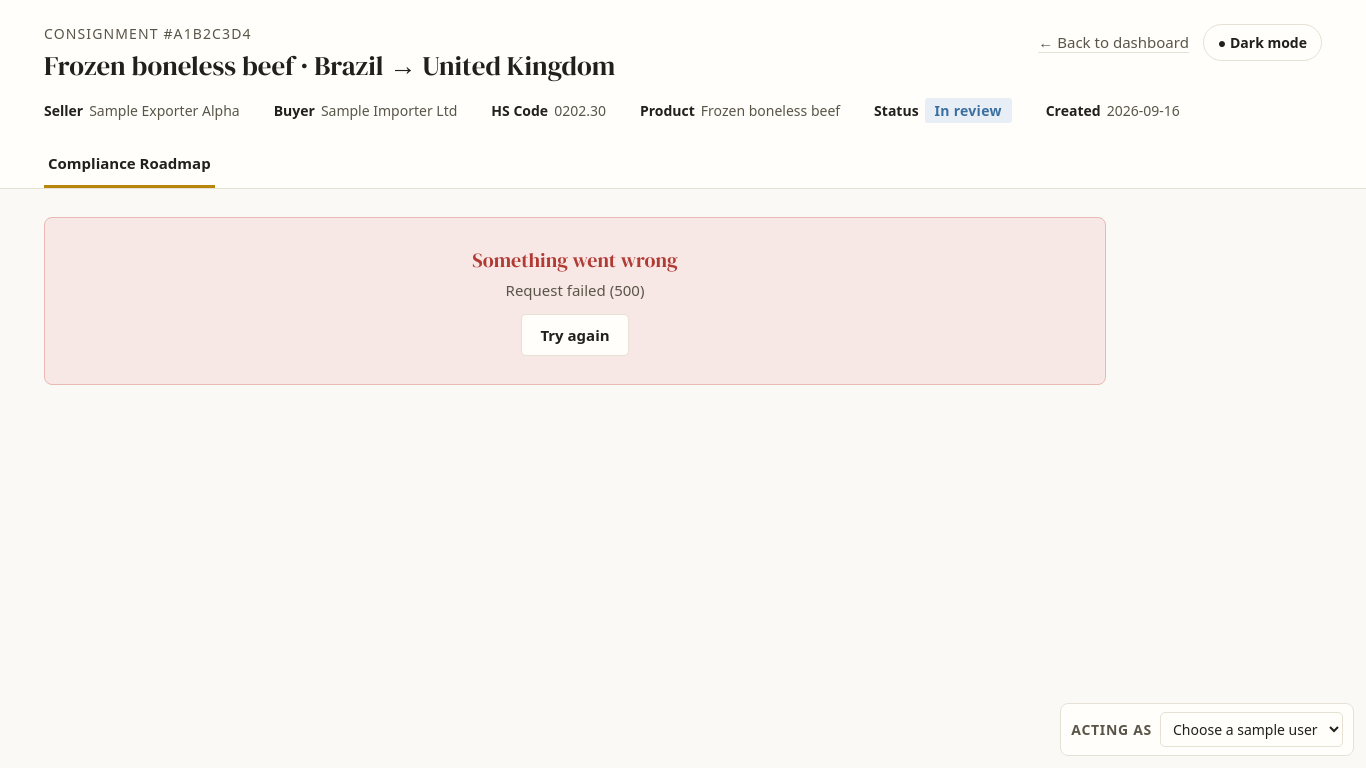
Test: roadmap: loading, empty, errors › keeps the header when only the checklist fails, and the retry works
This screenshot has width=1366, height=768.
Expected: the message "Something went wrong Request failed (500)" is shown, [472,246,678,300]
Expected: the heading "Frozen boneless beef · Brazil → United Kingdom" is shown, [44,47,615,84]
Click the button "Try again".
click(575, 335)  # box [521,314,629,356]
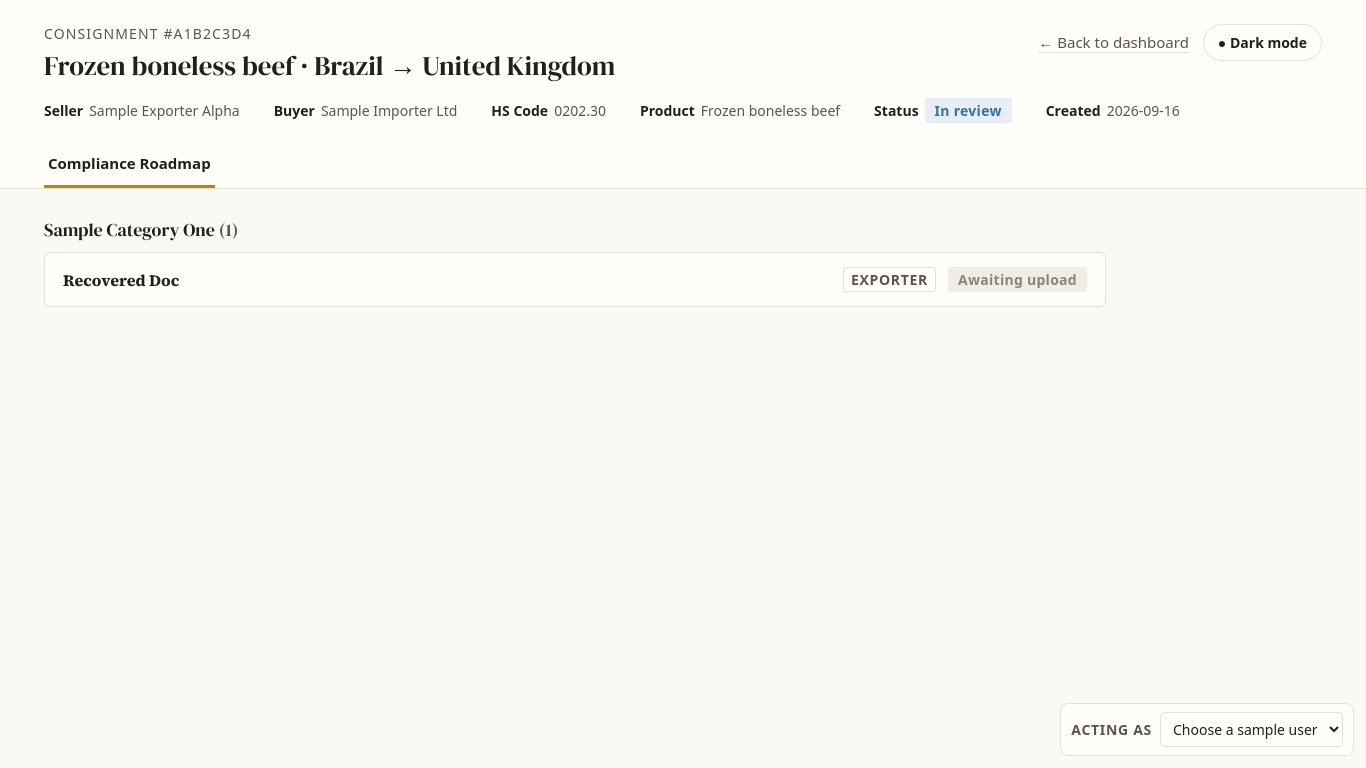
Now the text "Recovered Doc" is shown, box [63,268,179,290]
